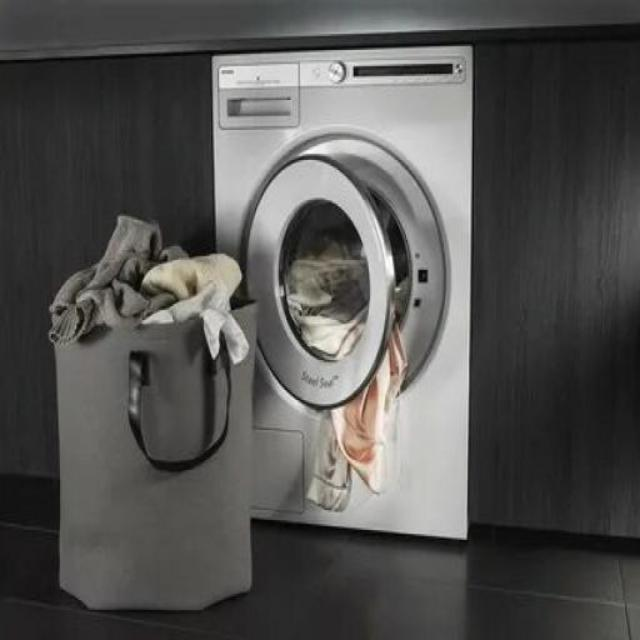Washing-Machine: (213, 51, 465, 538)
